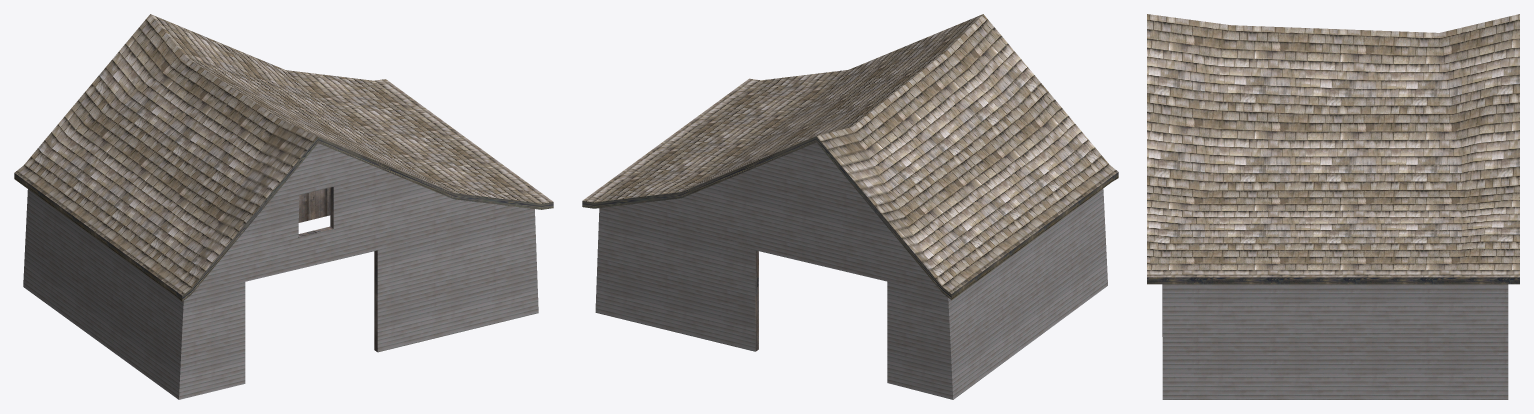
File: des_weebarn1_.obj
The picture shows the model from 3 angles, left to right: view 1: azimuth 30°, elevation 25°; view 2: azimuth 150°, elevation 25°; view 3: azimuth 270°, elevation 25°; orthographic projection. The views are drawn at different scales.
Visible parts, largest first — view 1: des_weebarn1_; view 2: des_weebarn1_; view 3: des_weebarn1_.
Part boxes in pixels (box(x1,y1,x2,y2)): des_weebarn1_: box(14, 14, 553, 399); des_weebarn1_: box(582, 14, 1118, 399); des_weebarn1_: box(1147, 14, 1519, 399).
Size of the model in its own units: 12.39 by 7.55 by 9.7.
4 materials, 4 textured.
